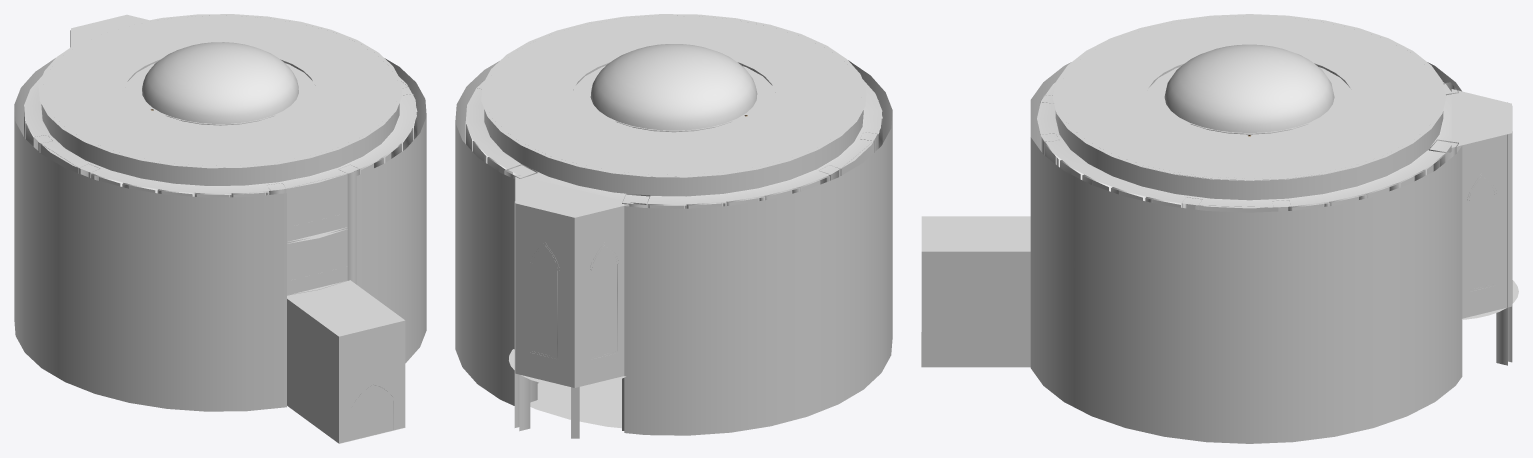
Rendered from LibraryStage.fbx.
The picture shows the model from 3 angles, left to right: view 1: azimuth 30°, elevation 25°; view 2: azimuth 150°, elevation 25°; view 3: azimuth 270°, elevation 25°; orthographic projection. The views are drawn at different scales.
Visible parts, largest first — view 1: B_01_Wall, A_02_Ceiling, A_05_Entrance, A_02_Ceiling_Glass; view 2: B_01_Wall, A_02_Ceiling, A_02_Ceiling_Glass, A_01_Floor_Base; view 3: B_01_Wall, A_02_Ceiling, A_05_Entrance, A_02_Ceiling_Glass.
Part boxes in pixels (bbox=[...]): B_01_Wall: bbox=[14, 30, 426, 411]; A_02_Ceiling: bbox=[24, 14, 416, 193]; A_05_Entrance: bbox=[287, 280, 405, 443]; A_02_Ceiling_Glass: bbox=[142, 42, 298, 123]; B_01_Wall: bbox=[455, 60, 892, 438]; A_02_Ceiling: bbox=[465, 14, 882, 217]; A_02_Ceiling_Glass: bbox=[590, 44, 757, 130]; A_01_Floor_Base: bbox=[530, 378, 621, 428]; B_01_Wall: bbox=[1030, 62, 1512, 443]; A_02_Ceiling: bbox=[1037, 14, 1511, 208]; A_05_Entrance: bbox=[921, 216, 1030, 367]; A_02_Ceiling_Glass: bbox=[1164, 44, 1334, 132].
Size of the model in its own units: 21 by 15.16 by 28.12.
